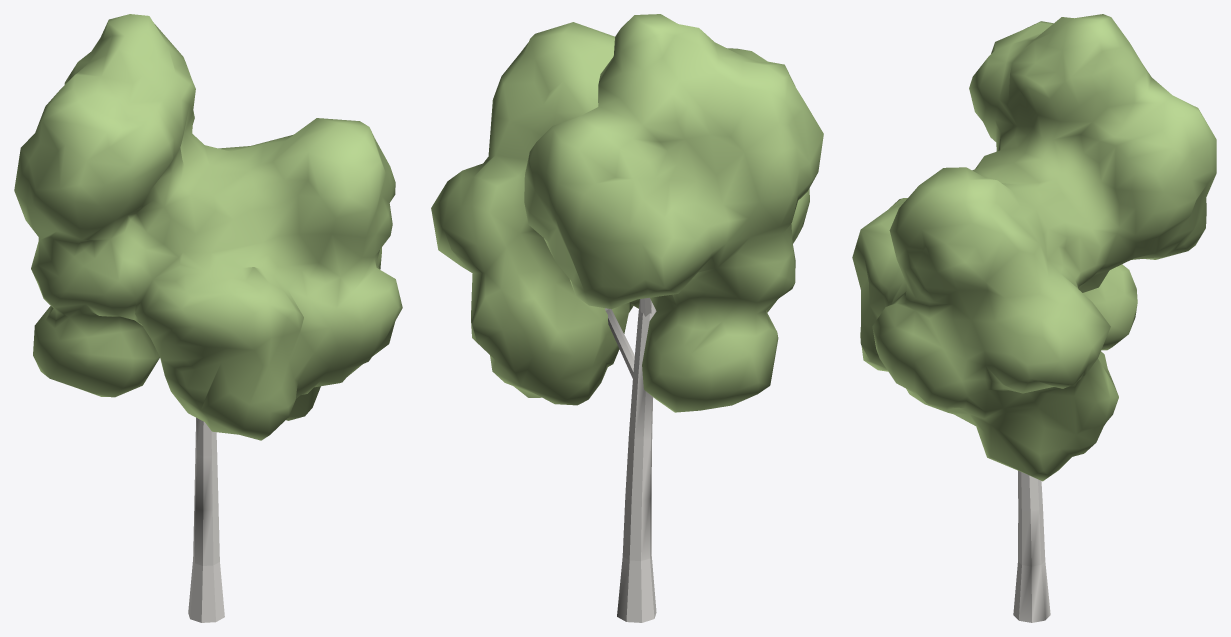
The model's file is tree_birch.glb.
The picture shows the model from 3 angles, left to right: view 1: azimuth 30°, elevation 25°; view 2: azimuth 150°, elevation 25°; view 3: azimuth 270°, elevation 25°; orthographic projection. The views are drawn at different scales.
Parts seen in each view (by area): view 1: tree_birch; view 2: tree_birch; view 3: tree_birch.
Boxes of the visible parts, box(x1,y1,x2,y2) form: tree_birch: box(14, 14, 402, 622); tree_birch: box(431, 14, 823, 622); tree_birch: box(852, 14, 1216, 622).
Bounding box in the file's own units: 5.42 × 8.78 × 5.04.
